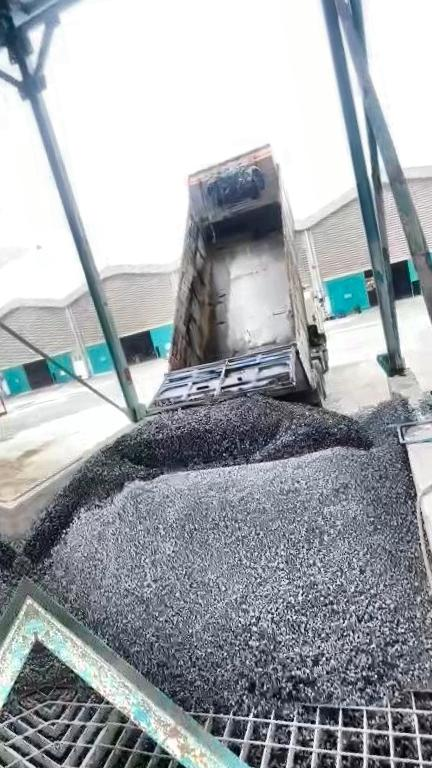gravel: (23, 392, 432, 713), (25, 396, 371, 564), (38, 641, 111, 704)
sand: (2, 448, 41, 501)
